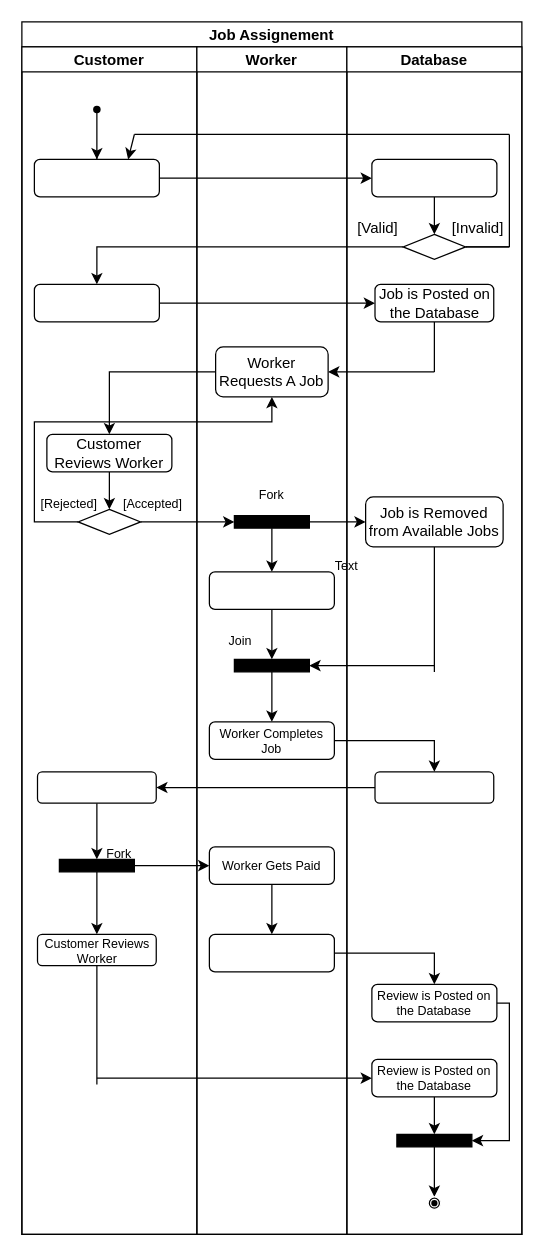
Image size: 544x1256. Some labels were removed from this diagram. Each missing label, with the centre of its shape:
Customer Creates a Job: [96,302]
Customer Creates Account/Login: [96,177]
Customer Pays Worker: [96,787]
Job is Marked as Complete: [434,787]
Validate Customer Info: [434,177]
Worker is Assigned to Job: [271,590]
Worker Reviews Customer: [271,952]
